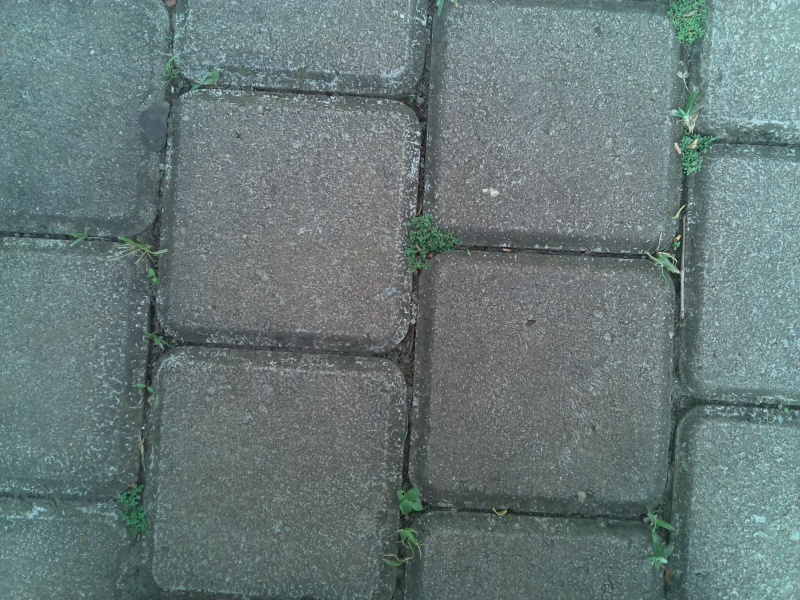Weed: (401, 213, 464, 277), (665, 1, 719, 56), (114, 481, 157, 546), (673, 131, 729, 177), (114, 229, 171, 266), (669, 85, 710, 134), (634, 499, 683, 538), (390, 479, 429, 523), (644, 530, 677, 572), (389, 523, 429, 556), (643, 242, 683, 275), (188, 65, 222, 99), (129, 372, 162, 405), (139, 326, 175, 355), (158, 44, 184, 84), (66, 222, 93, 253), (773, 399, 795, 419)
